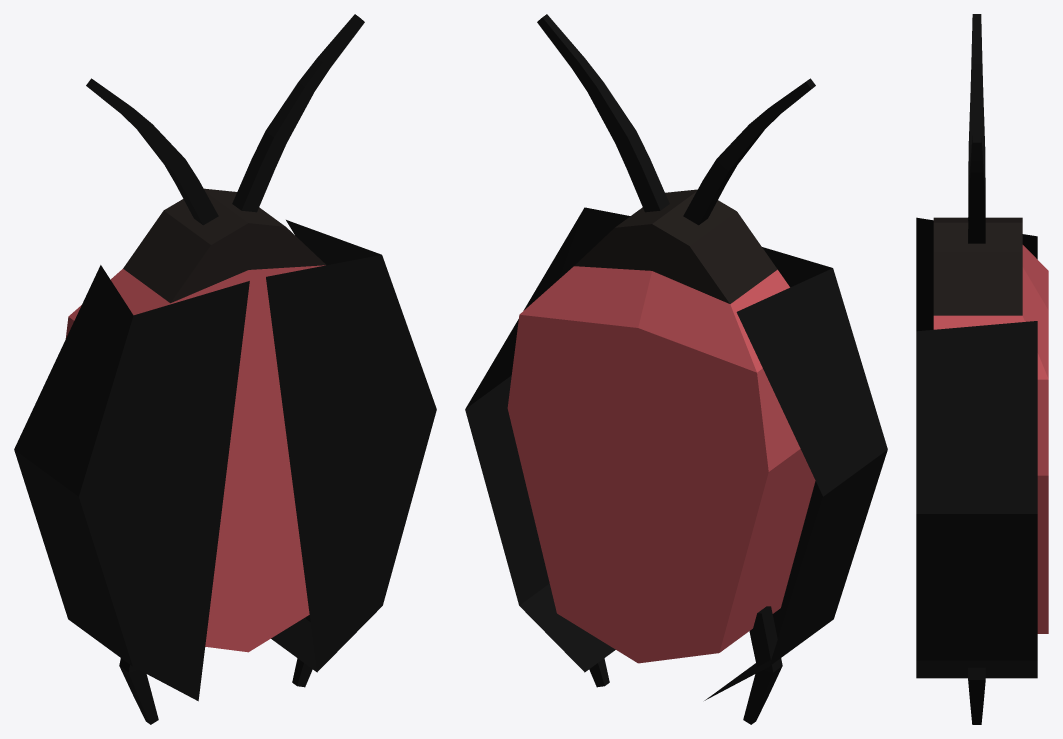
The model's file is bug.glb.
The picture shows the model from 3 angles, left to right: view 1: azimuth 30°, elevation 25°; view 2: azimuth 150°, elevation 25°; view 3: azimuth 270°, elevation 25°; orthographic projection. The views are drawn at different scales.
Parts seen in each view (by area): view 1: bug; view 2: bug; view 3: bug.
Part boxes in pixels (<box>): bug: <box>14,14,436,724</box>; bug: <box>465,14,887,724</box>; bug: <box>916,14,1048,724</box>.
Bounding box in the file's own units: 0.3166 × 0.5545 × 0.1082.
Materials: 1 (1 with a texture image).
